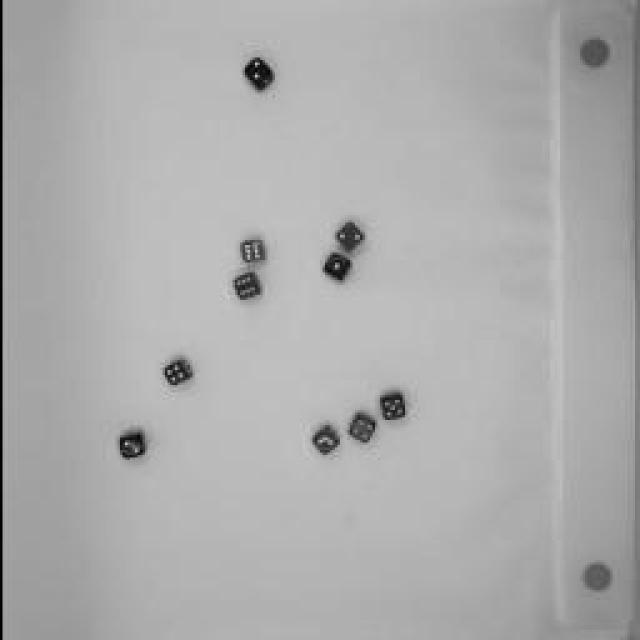dice_1: (318, 252, 352, 282)
dice_2: (239, 52, 271, 92), (330, 220, 365, 255), (308, 425, 342, 460), (114, 428, 144, 462)
dice_4: (158, 356, 192, 392), (343, 412, 375, 446)
dice_5: (372, 390, 408, 425)
dice_6: (226, 270, 262, 305), (235, 238, 265, 268)
